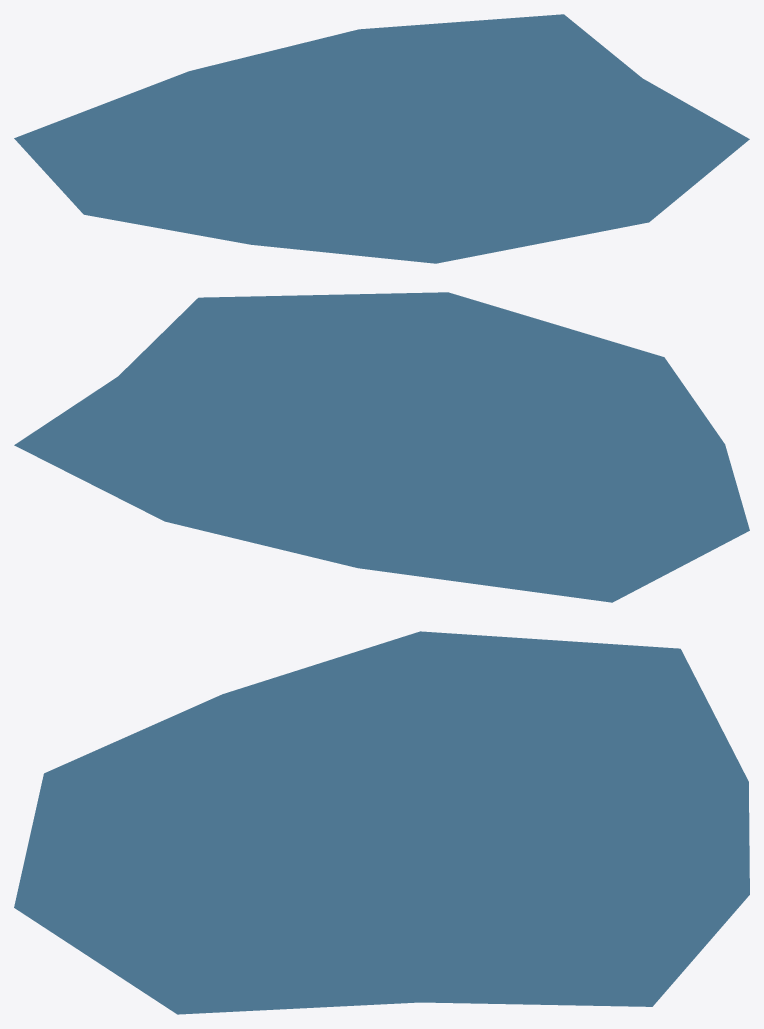
File: Decal_Puddle_Small.glb
3 renders of one model, top to bottom at view 1: azimuth 30°, elevation 25°; view 2: azimuth 150°, elevation 25°; view 3: azimuth 270°, elevation 25°, orthographic. The views are drawn at different scales.
Visible parts, largest first — view 1: Decal_Puddle_Small_Water; view 2: Decal_Puddle_Small_Water; view 3: Decal_Puddle_Small_Water.
Boxes of the visible parts, x1,y1,x2,y2 form: Decal_Puddle_Small_Water: [14, 14, 749, 263]; Decal_Puddle_Small_Water: [14, 292, 749, 602]; Decal_Puddle_Small_Water: [14, 631, 749, 1014].
Size of the model in its own units: 1.14 by 0 by 0.9266.
